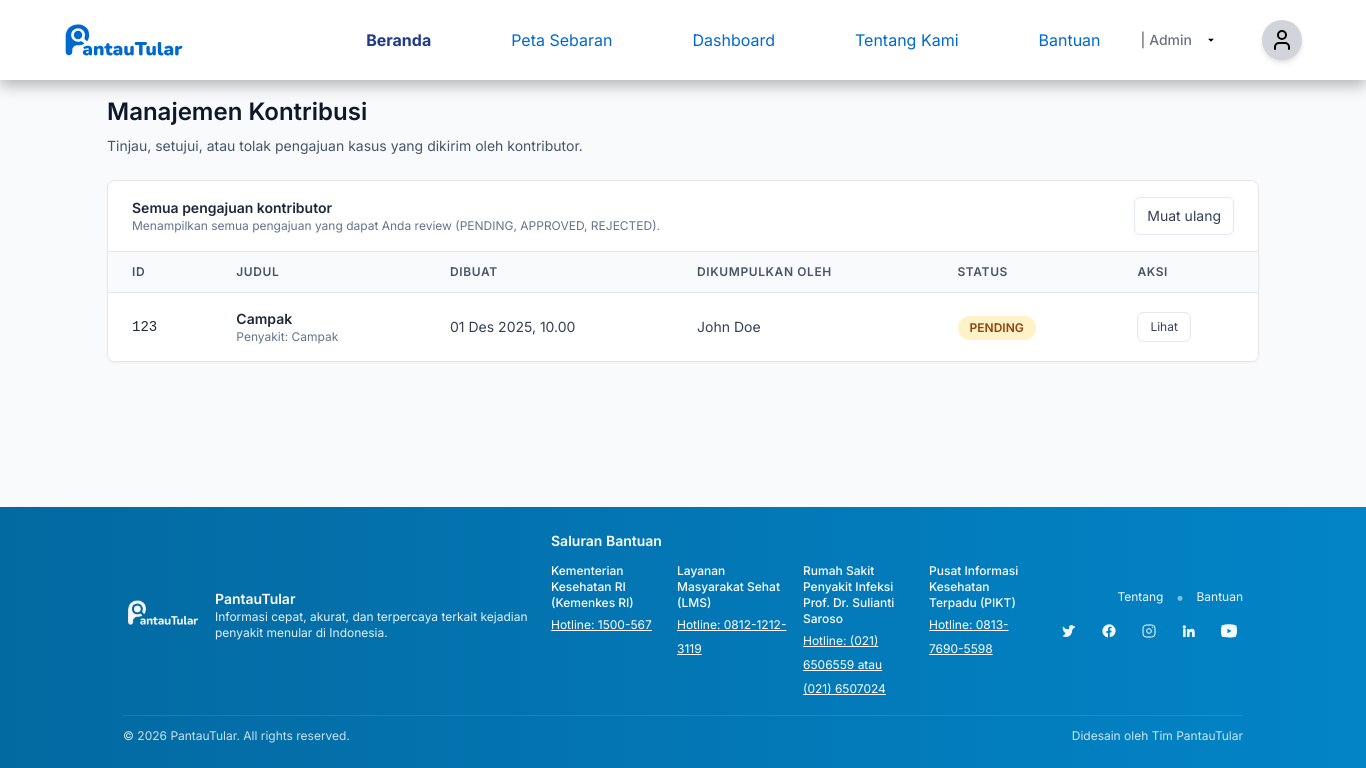
Test: ContributionManagementPage › view modal handles missing news & missing review_note
Expected: the text "123" is shown, top-left (108, 292), bottom-right (212, 361)
Step 1. Click the button "Lihat" → point(1164, 327), box top-left (1137, 312), bottom-right (1191, 342)
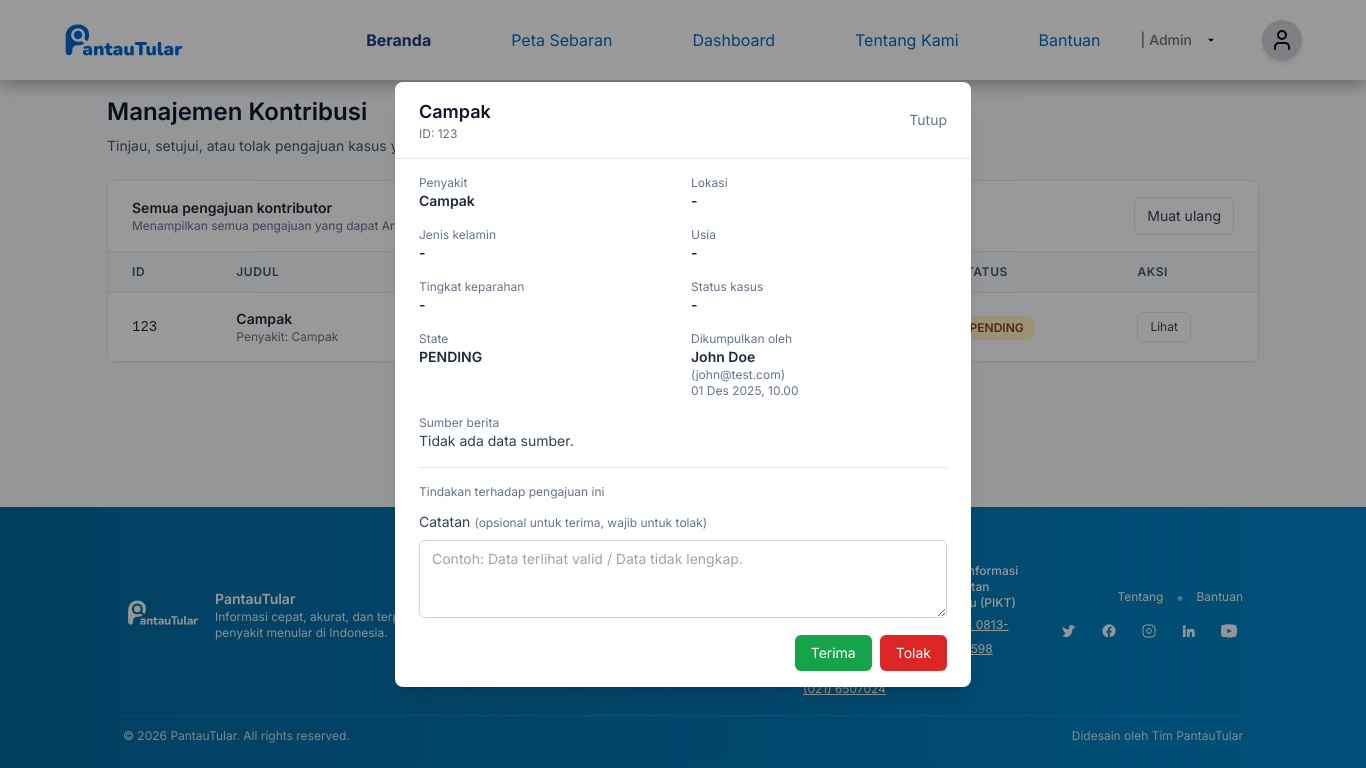
Expected: the text "Tidak ada data sumber." is shown, top-left (419, 432), bottom-right (574, 448)
